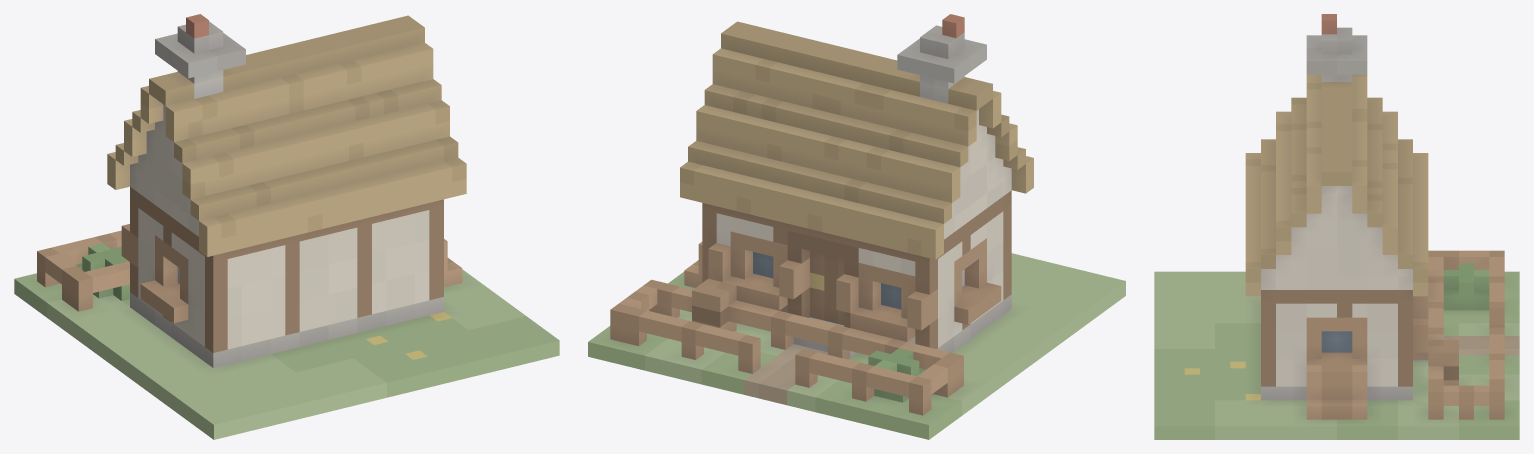
File: house_settlers.v0.glb
3 views of the same model, side by side, from view 1: azimuth 30°, elevation 25°; view 2: azimuth 150°, elevation 25°; view 3: azimuth 270°, elevation 25° (orthographic). The views are drawn at different scales.
Parts seen in each view (by area): view 1: house_settlers; view 2: house_settlers; view 3: house_settlers.
Boxes of the visible parts, x1,y1,x2,y2 form: house_settlers: (14,14,559,439); house_settlers: (588,14,1125,439); house_settlers: (1154,14,1519,439).
Bounding box in the file's own units: 3 × 2.75 × 3.
